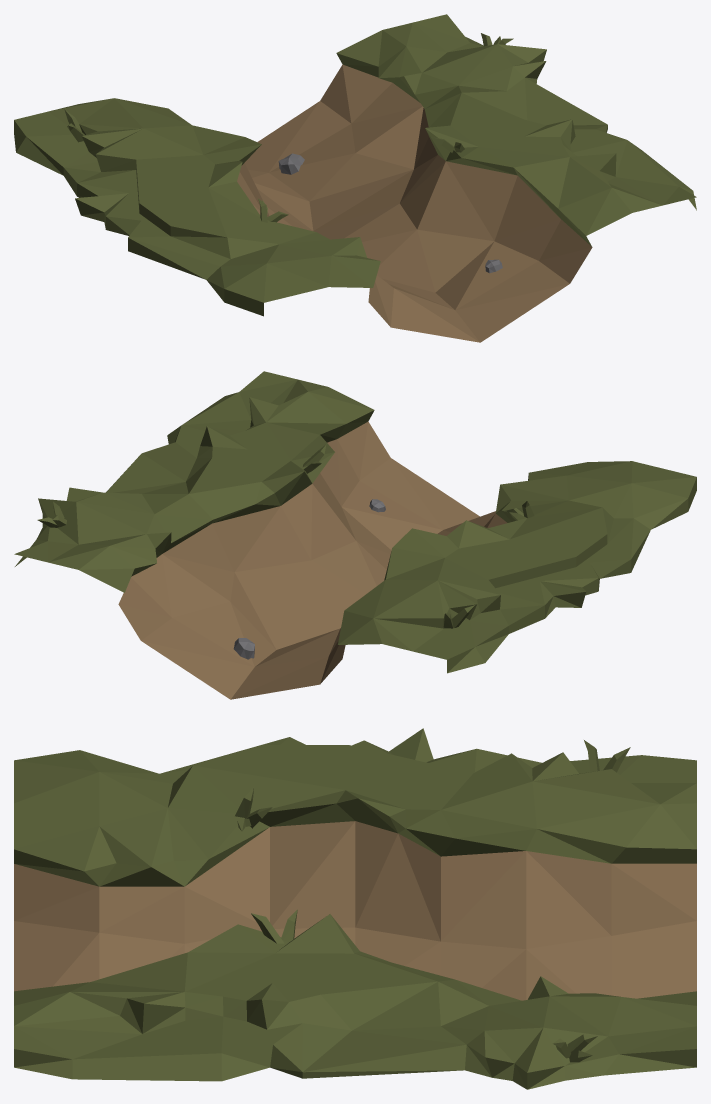
File: stream_straight.glb
3 renders of one model, top to bottom at view 1: azimuth 30°, elevation 25°; view 2: azimuth 150°, elevation 25°; view 3: azimuth 270°, elevation 25°, orthographic. The views are drawn at different scales.
Visible parts, largest first — view 1: SM_Env_Stream_Straight_01; view 2: SM_Env_Stream_Straight_01; view 3: SM_Env_Stream_Straight_01.
Boxes of the visible parts, x1=… form: SM_Env_Stream_Straight_01: x1=14, y1=14, x2=696, y2=342; SM_Env_Stream_Straight_01: x1=14, y1=371, x2=696, y2=699; SM_Env_Stream_Straight_01: x1=14, y1=728, x2=696, y2=1089.
Size of the model in its own units: 589 by 132 by 500.
1 material, 1 textured.
